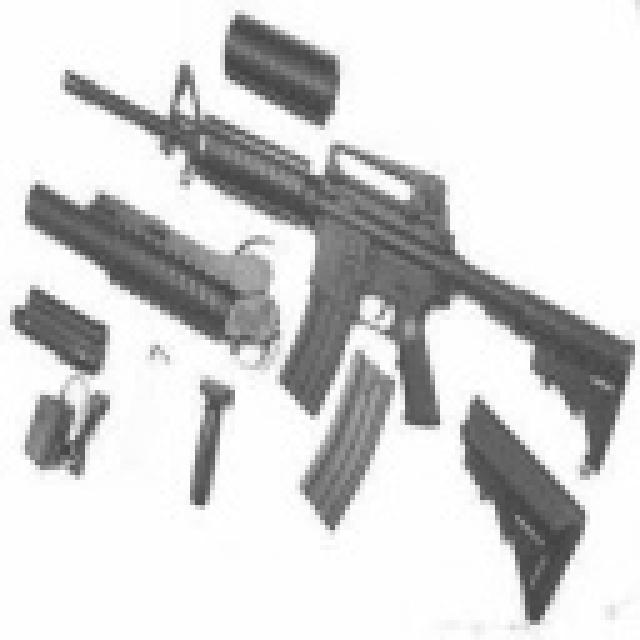Rifle: (40, 45, 640, 492)
